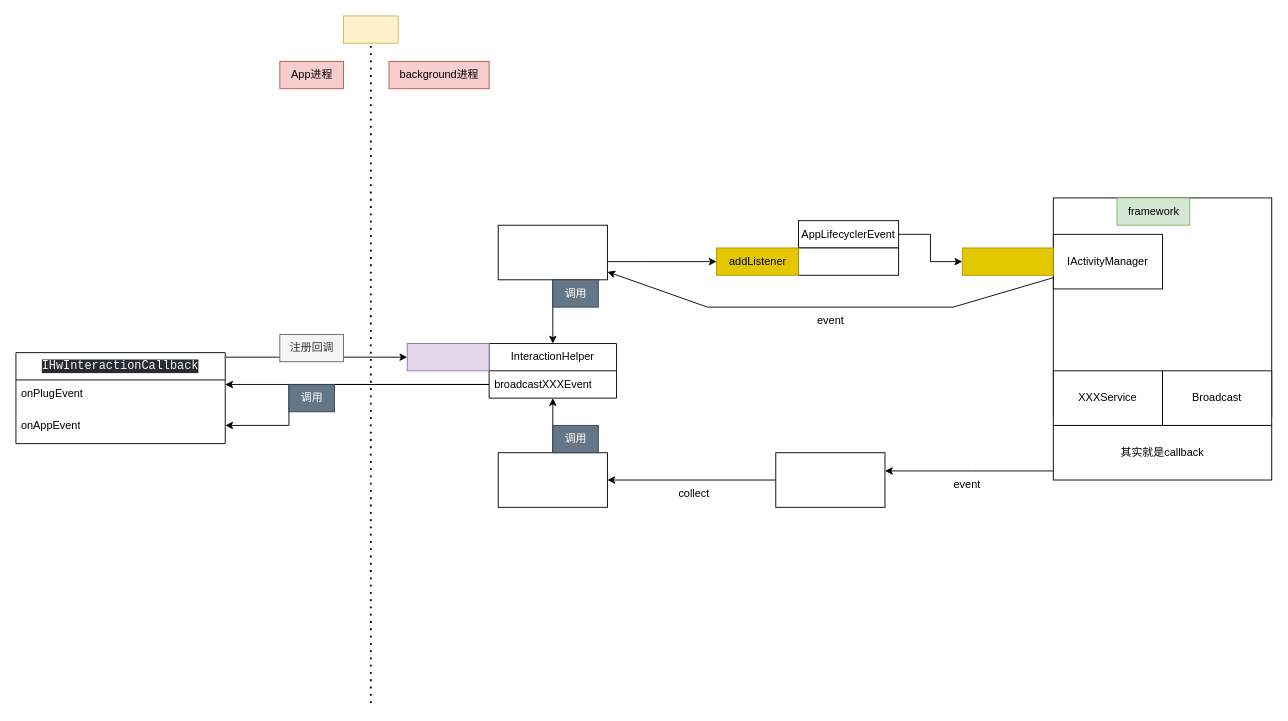
Image size: 1288x721. Some labels were removed from this diagram. The centre of each missing label's shape, as x and y in pixels:
"addController" goes at (1007,261).
"AppEventController" goes at (552,252).
"Binder" goes at (370,29).
"Flow" goes at (830,479).
"Listeners" goes at (848,261).
"PlugEventController" goes at (552,479).
"registerClient" goes at (447,357).
